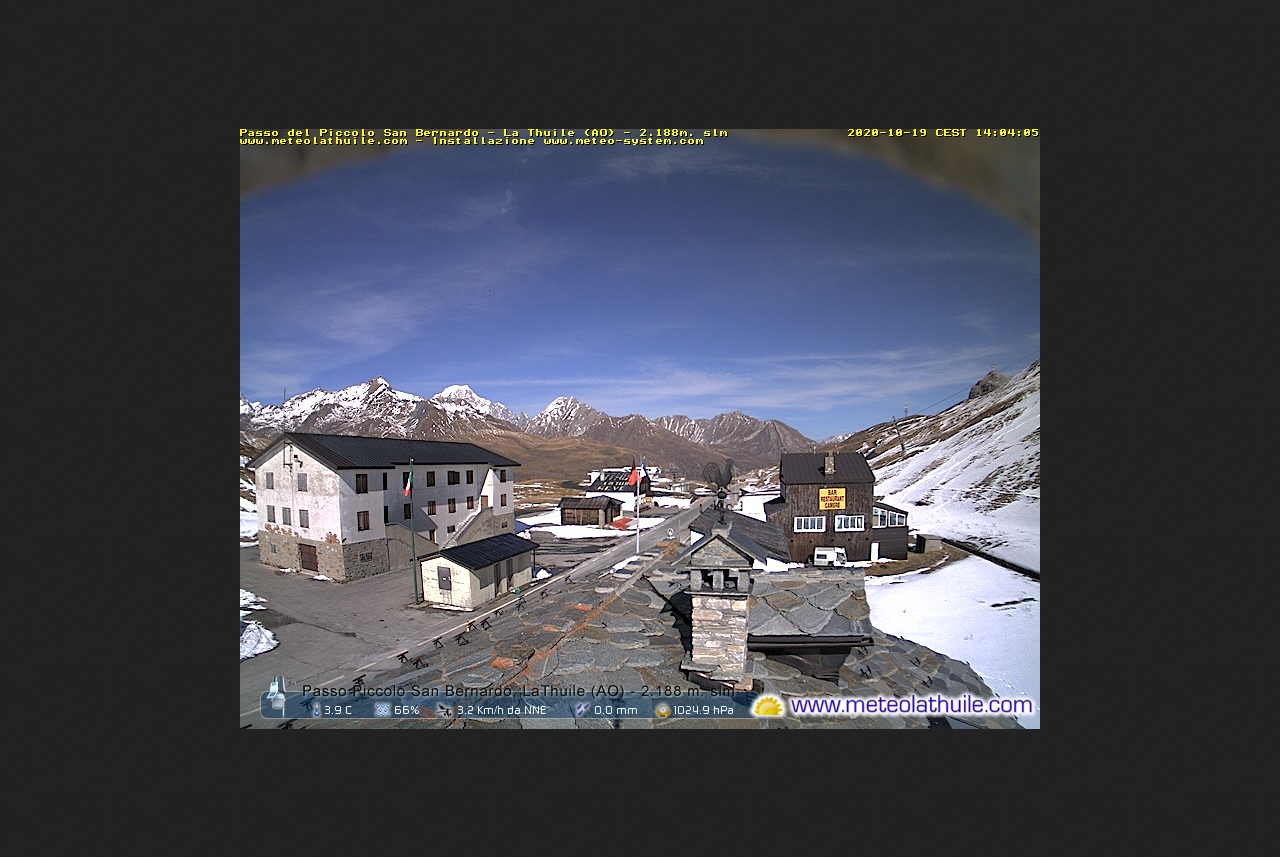no: (399, 464, 415, 499), (624, 459, 640, 485), (642, 463, 654, 487)
